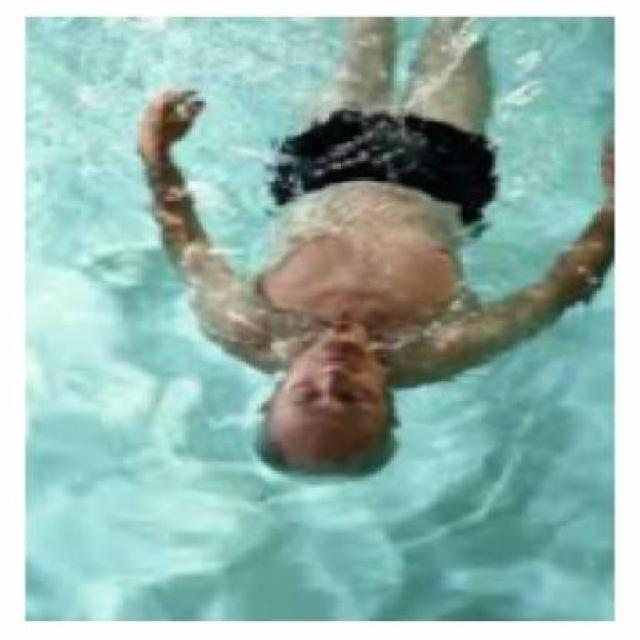Swimming: (133, 50, 586, 492)
